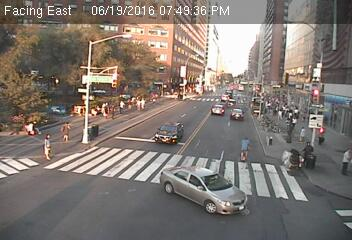neg: (211, 166, 231, 194), (192, 168, 210, 192), (224, 110, 240, 132), (223, 74, 236, 92), (234, 195, 246, 212), (211, 60, 222, 75), (209, 37, 218, 49), (201, 51, 210, 63), (201, 93, 208, 101), (223, 102, 228, 109)
pos: (335, 145, 351, 177), (38, 133, 57, 159), (60, 122, 75, 142), (107, 104, 121, 123), (137, 95, 150, 112), (298, 126, 310, 143)
